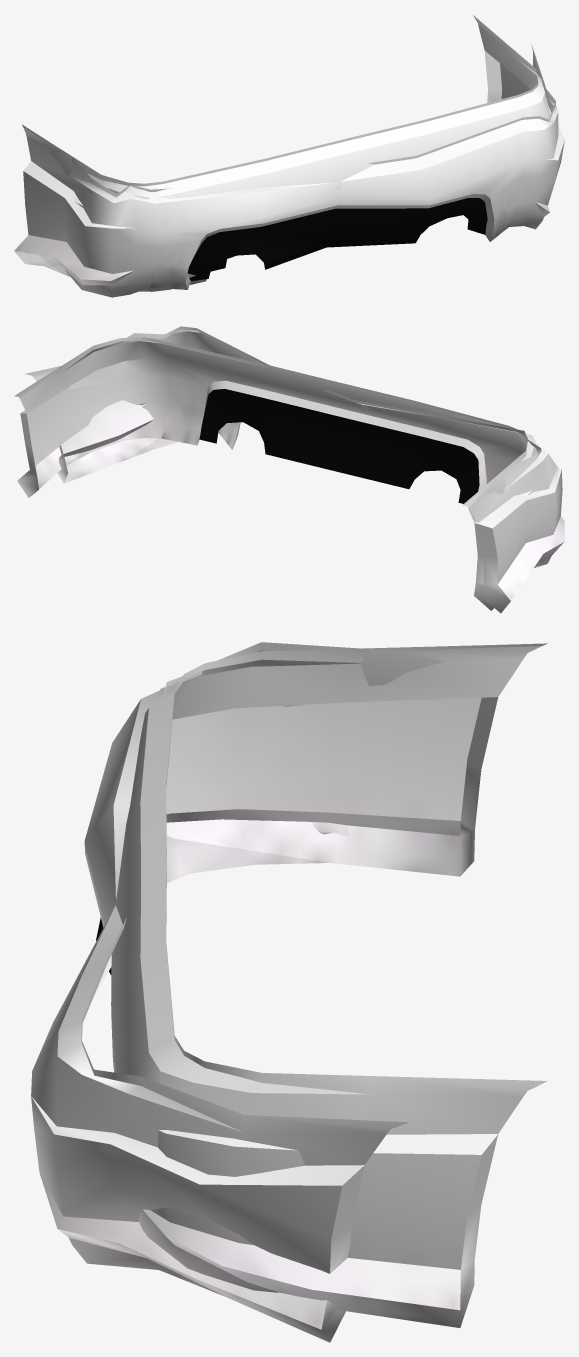
The model's file is rbmp_c_u.glb.
The picture shows the model from 3 angles, top to bottom: view 1: azimuth 30°, elevation 25°; view 2: azimuth 150°, elevation 25°; view 3: azimuth 270°, elevation 25°; orthographic projection. The views are drawn at different scales.
Visible parts, largest first — view 1: rbmp_c_u_dam, rbmp_c_u; view 2: rbmp_c_u, rbmp_c_u_dam; view 3: rbmp_c_u, rbmp_c_u_dam.
Boxes of the visible parts, x1,y1,x2,y2 form: rbmp_c_u_dam: [14, 45, 564, 297]; rbmp_c_u: [22, 15, 551, 291]; rbmp_c_u: [14, 337, 537, 610]; rbmp_c_u_dam: [25, 326, 564, 613]; rbmp_c_u: [111, 643, 547, 1327]; rbmp_c_u_dam: [31, 642, 547, 1342].
Bounding box in the file's own units: 2.38 × 0.585 × 1.06.
2 materials, 2 textured.
